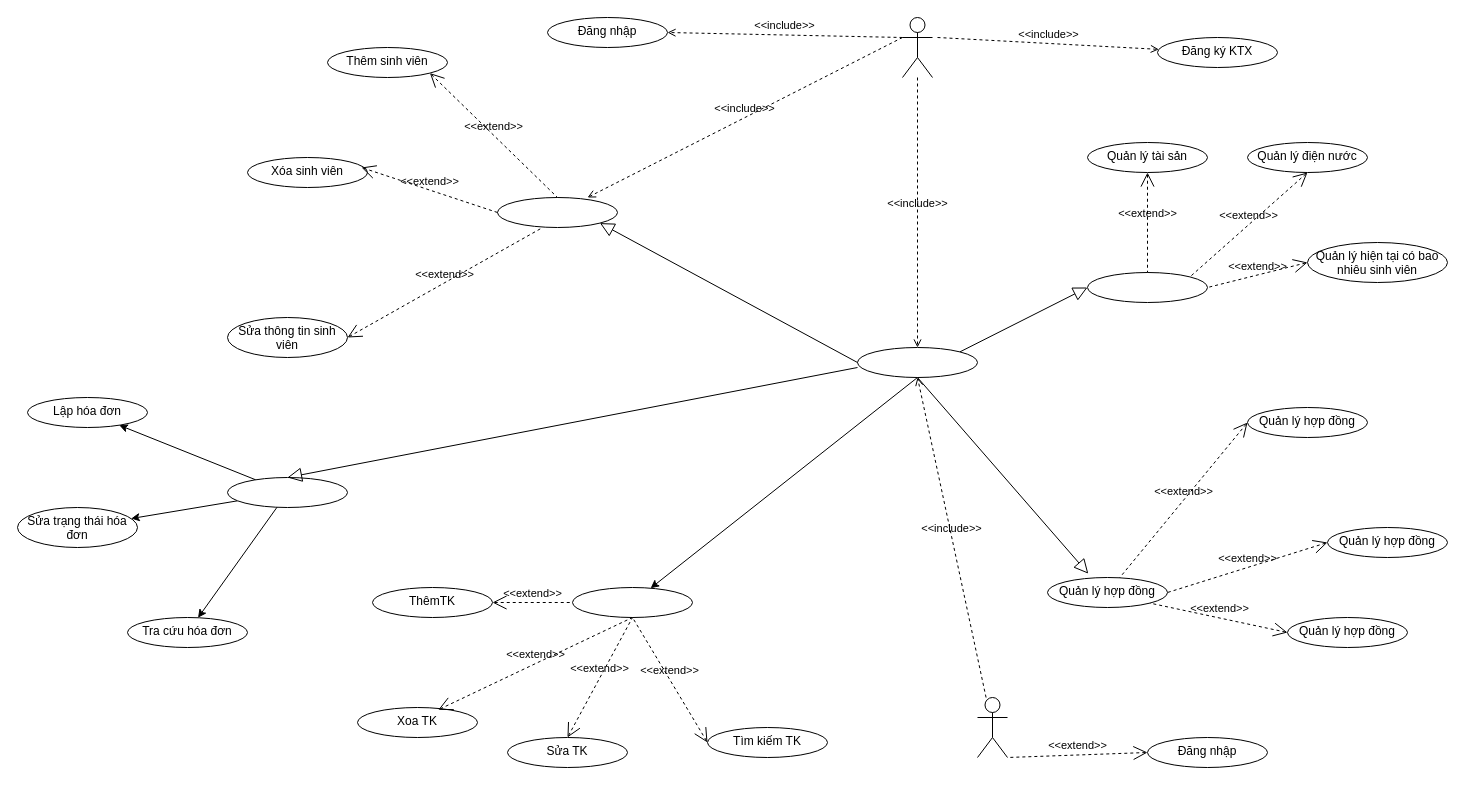
Image size: 1465x796. Some labels were removed from this diagram. Each missing label, with the centre of its shape:
"Nhân viên" belongs at [992,727].
"QL HT" belongs at [917,362].
"Quản lý phòng" belongs at [1147,287].
"Quản lý sinh viên" belongs at [557,212].
"Quản lý thu" belongs at [287,492].
"Quản lý tài khoản" belongs at [632,602].
"Sinh viên" belongs at [917,47].
